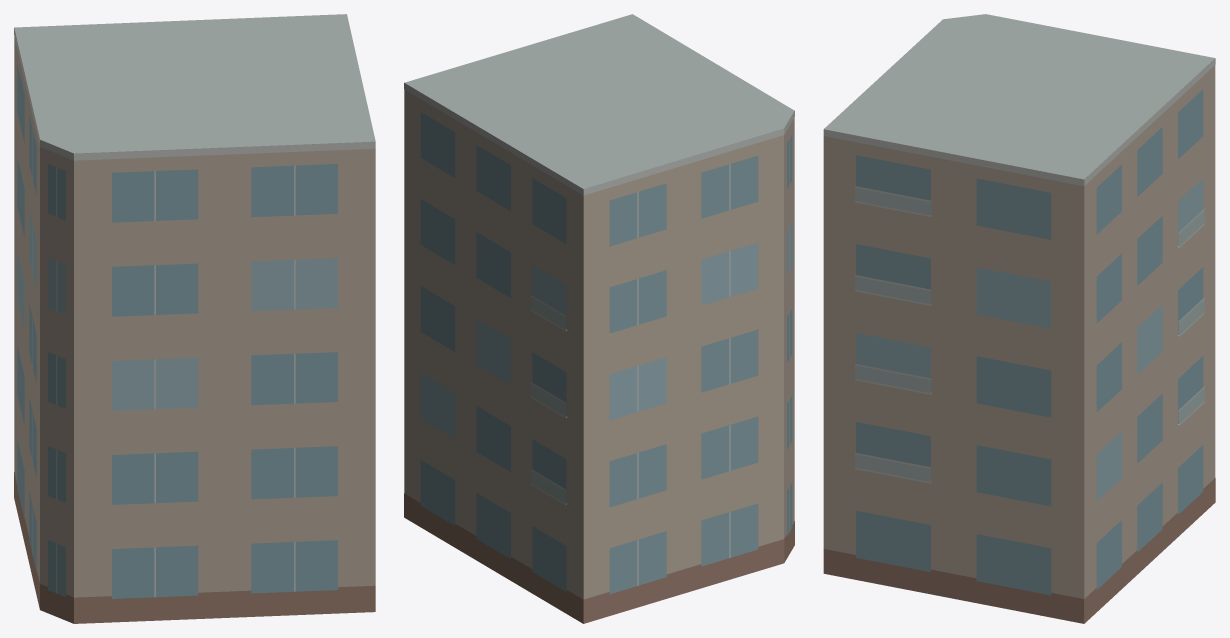
File: survey-upis-32668621.glb
3 views of the same model, side by side, from view 1: azimuth 30°, elevation 25°; view 2: azimuth 150°, elevation 25°; view 3: azimuth 270°, elevation 25° (orthographic). The views are drawn at different scales.
Parts seen in each view (by area): view 1: survey-upis-32668621.tmp; view 2: survey-upis-32668621.tmp; view 3: survey-upis-32668621.tmp.
Part boxes in pixels (x1,y1,x2,y2): survey-upis-32668621.tmp: (14, 14, 375, 623); survey-upis-32668621.tmp: (404, 14, 794, 623); survey-upis-32668621.tmp: (823, 14, 1215, 623).
Size of the model in its own units: 12.88 by 16.12 by 12.89.
